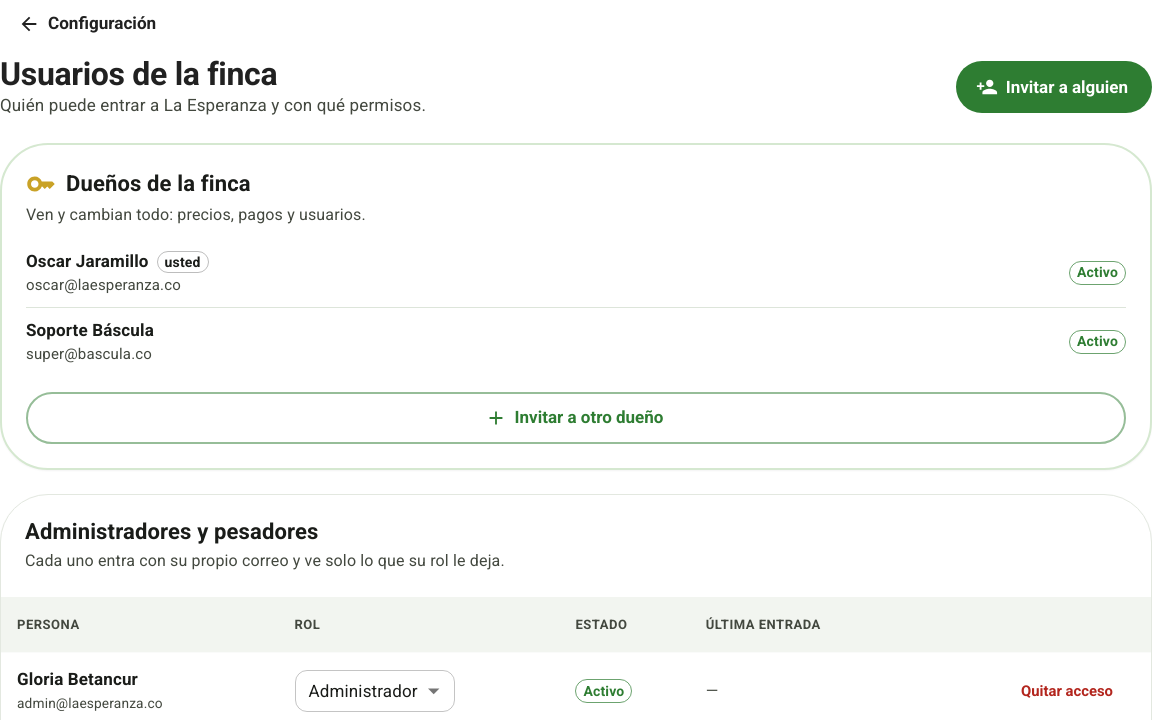
Test: changing somebody's role › says why when the server refuses, and the message can be closed
Click the dropdown at (363, 691), box [308,681,418,701]
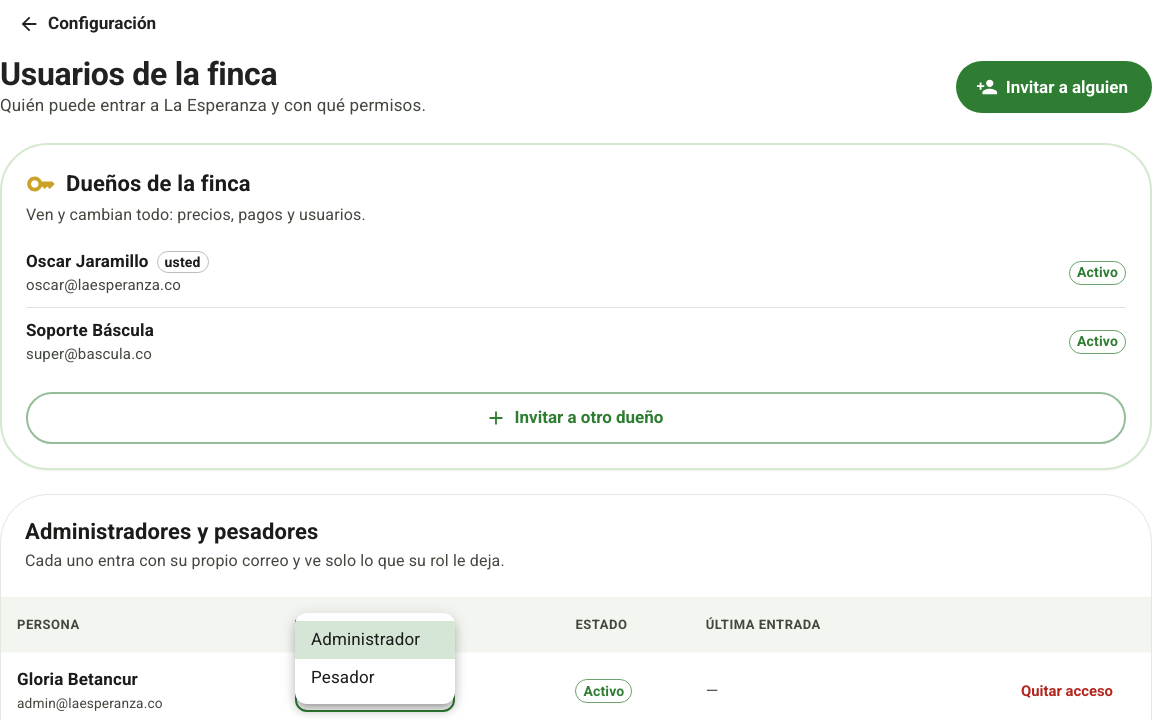
Click the option "Pesador" at (343, 676), box [311,666,375,686]
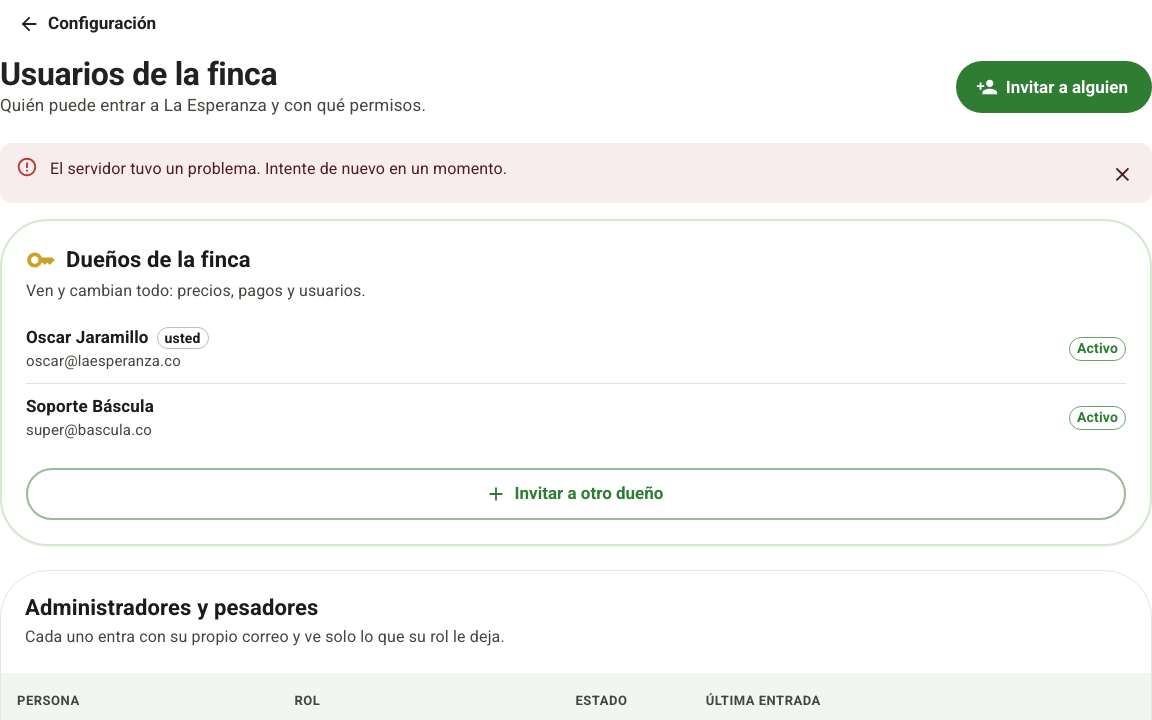
Result: the message "El servidor tuvo un problema. Intente de nuevo en un momento." is shown at [0,143,1151,203]
Click the button named "Cerrar" at (1122, 175), box [1100,153,1144,197]
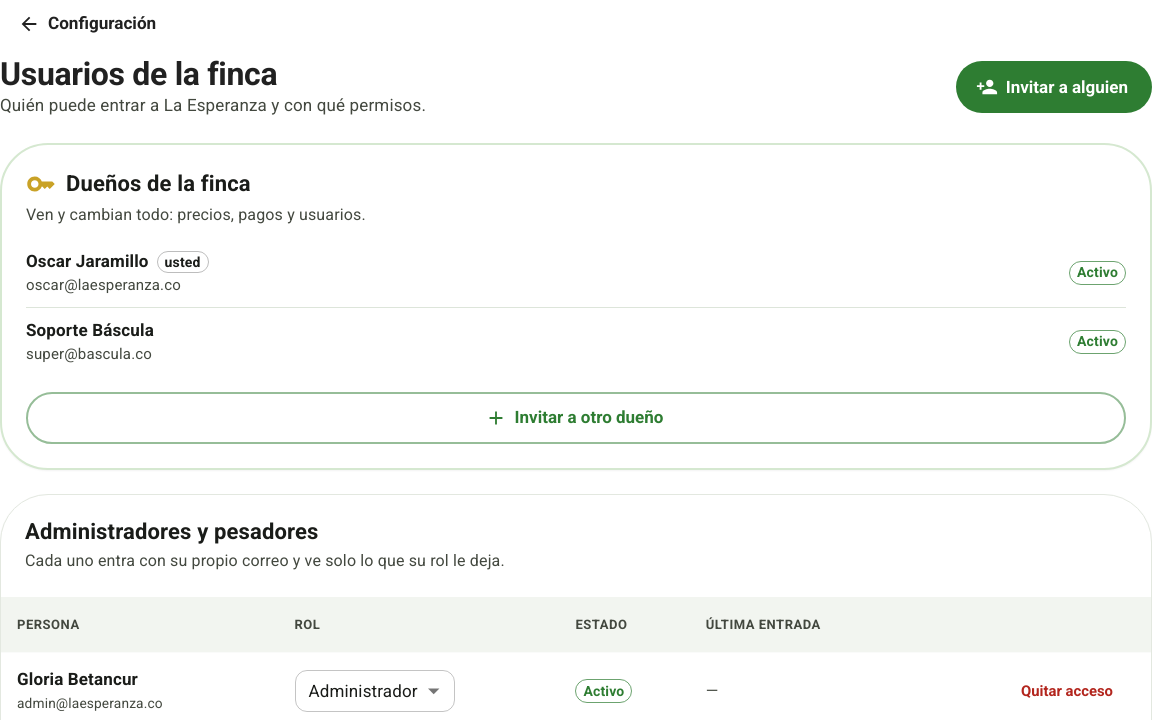
Result: the message "El servidor tuvo un problema. Intente de nuevo en un momento." is gone
